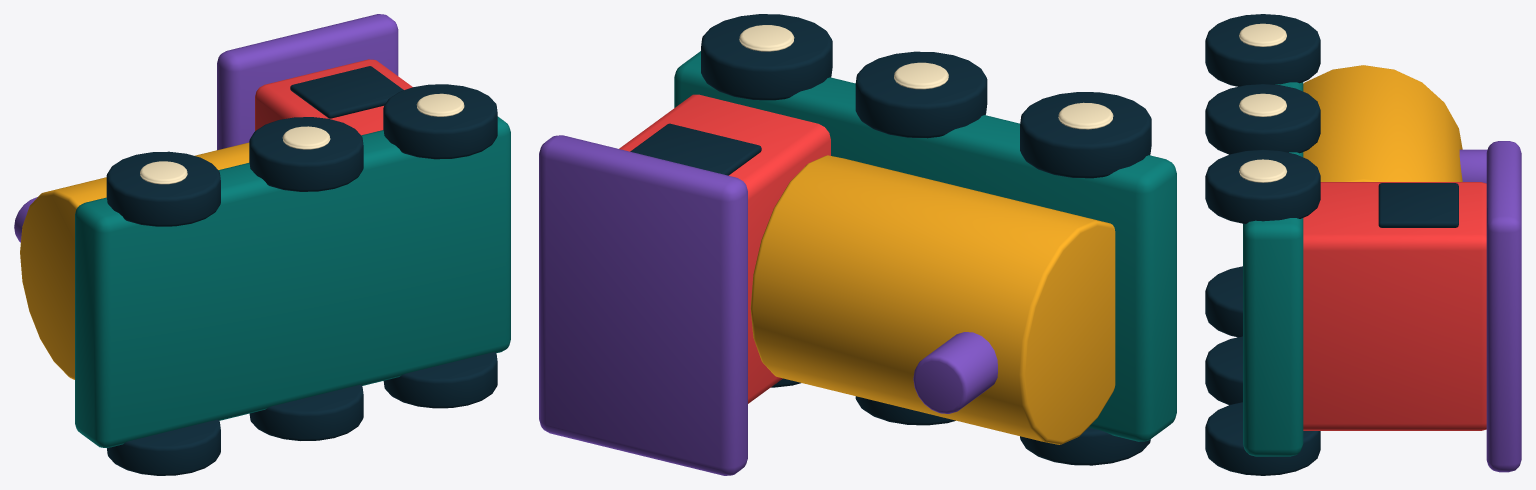
File: PlayfulToyTrain.fbx
3 renders of one model, left to right at view 1: azimuth 30°, elevation 25°; view 2: azimuth 150°, elevation 25°; view 3: azimuth 270°, elevation 25°, orthographic. The views are drawn at different scales.
Parts seen in each view (by area): view 1: PlayfulToyTrain; view 2: PlayfulToyTrain; view 3: PlayfulToyTrain.
Boxes of the visible parts, box(x1,y1,x2,y2) form: PlayfulToyTrain: box(14, 14, 510, 475); PlayfulToyTrain: box(539, 14, 1176, 475); PlayfulToyTrain: box(1205, 14, 1521, 475).
Size of the model in its own units: 0.98 by 0.6346 by 0.63.
